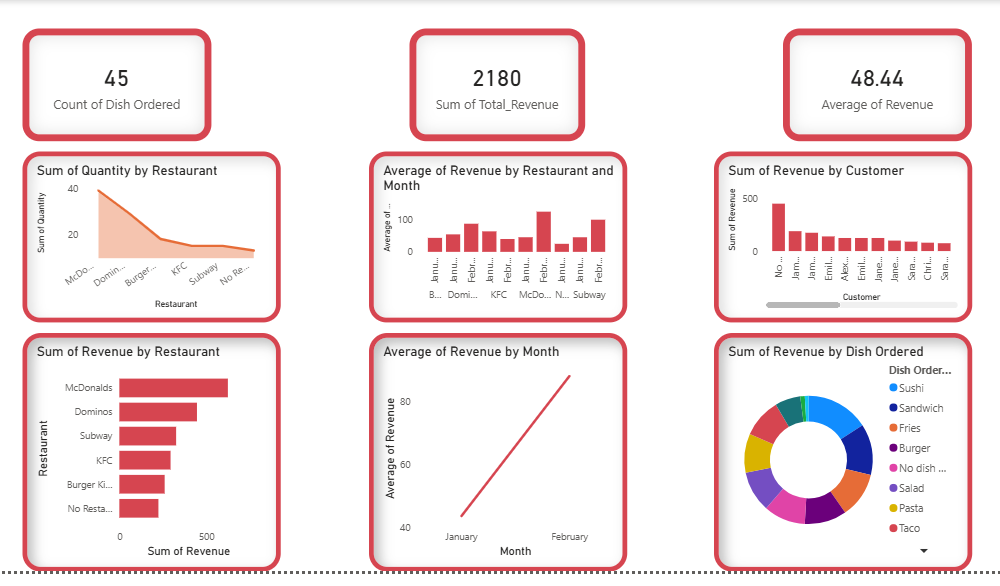

The dashboard page shown, as its layout file describes it:
{"tool":"powerbi","page":{"name":"Summary","canvas":[1280,720],"ordinal":0},"visuals":[{"type":"card","fields":{"Values":["CountNonNull(Sheet1.Dish Ordered)"]},"box":[35.9,35.9,238.1,141.7],"z":0},{"type":"barChart","fields":{"Category":["Sheet1.Restaurant"],"Y":["Sum(Sheet1.Revenue)"]},"box":[35.9,419.5,325,300.5],"z":1000},{"type":"donutChart","fields":{"Category":["Sheet1.Dish Ordered"],"Y":["Sum(Sheet1.Revenue)"]},"box":[907.1,419.5,325,300.5],"z":2000},{"type":"lineChart","fields":{"Y":["Avg(Sheet1.Revenue)"],"Category":["Sheet1.Date of Visit.Variation.Date Hierarchy.Month"]},"box":[471.5,419.5,325,300.5],"z":3000},{"type":"card","fields":{"Values":["Sum(Sheet1.Total_Revenue)"]},"box":[523.5,35.9,221.1,141.7],"z":4000},{"type":"card","fields":{"Values":["Avg(Sheet1.Revenue)"]},"box":[994,35.9,238.1,141.7],"z":5000},{"type":"areaChart","fields":{"Category":["Sheet1.Restaurant"],"Y":["Sum(Sheet1.Quantity)"]},"box":[35.9,190.9,325,215.4],"z":6000},{"type":"clusteredColumnChart","fields":{"Category":["Sheet1.Restaurant","Sheet1.Date of Visit.Variation.Date Hierarchy.Month"],"Y":["Avg(Sheet1.Revenue)"]},"box":[471.5,190.9,325,215.4],"z":7000},{"type":"lineClusteredColumnComboChart","fields":{"Category":["Sheet1.Customer"],"Y":["Sum(Sheet1.Revenue)"]},"box":[907.1,190.9,325,215.4],"z":8000}]}

Visuals, with their boxes in screenshot pixels (x1, y1, x2, y2):
card - CountNonNull(Sheet1.Dish Ordered): l=18, t=23, r=208, b=137
barChart - Sheet1.Restaurant x Sum(Sheet1.Revenue): l=18, t=330, r=278, b=570
donutChart - Sheet1.Dish Ordered x Sum(Sheet1.Revenue): l=714, t=330, r=974, b=570
lineChart - Avg(Sheet1.Revenue) x Sheet1.Date of Visit.Variation.Date Hierarchy.Month: l=366, t=330, r=626, b=570
card - Sum(Sheet1.Total_Revenue): l=408, t=23, r=584, b=137
card - Avg(Sheet1.Revenue): l=784, t=23, r=974, b=137
areaChart - Sheet1.Restaurant x Sum(Sheet1.Quantity): l=18, t=147, r=278, b=319
clusteredColumnChart - Sheet1.Restaurant x Sheet1.Date of Visit.Variation.Date Hierarchy.Month: l=366, t=147, r=626, b=319
lineClusteredColumnComboChart - Sheet1.Customer x Sum(Sheet1.Revenue): l=714, t=147, r=974, b=319
